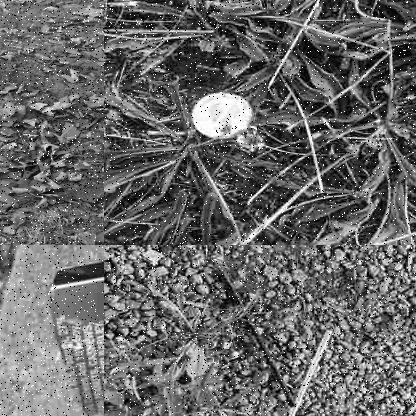plastic: (43, 245, 103, 415), (191, 88, 253, 140)
